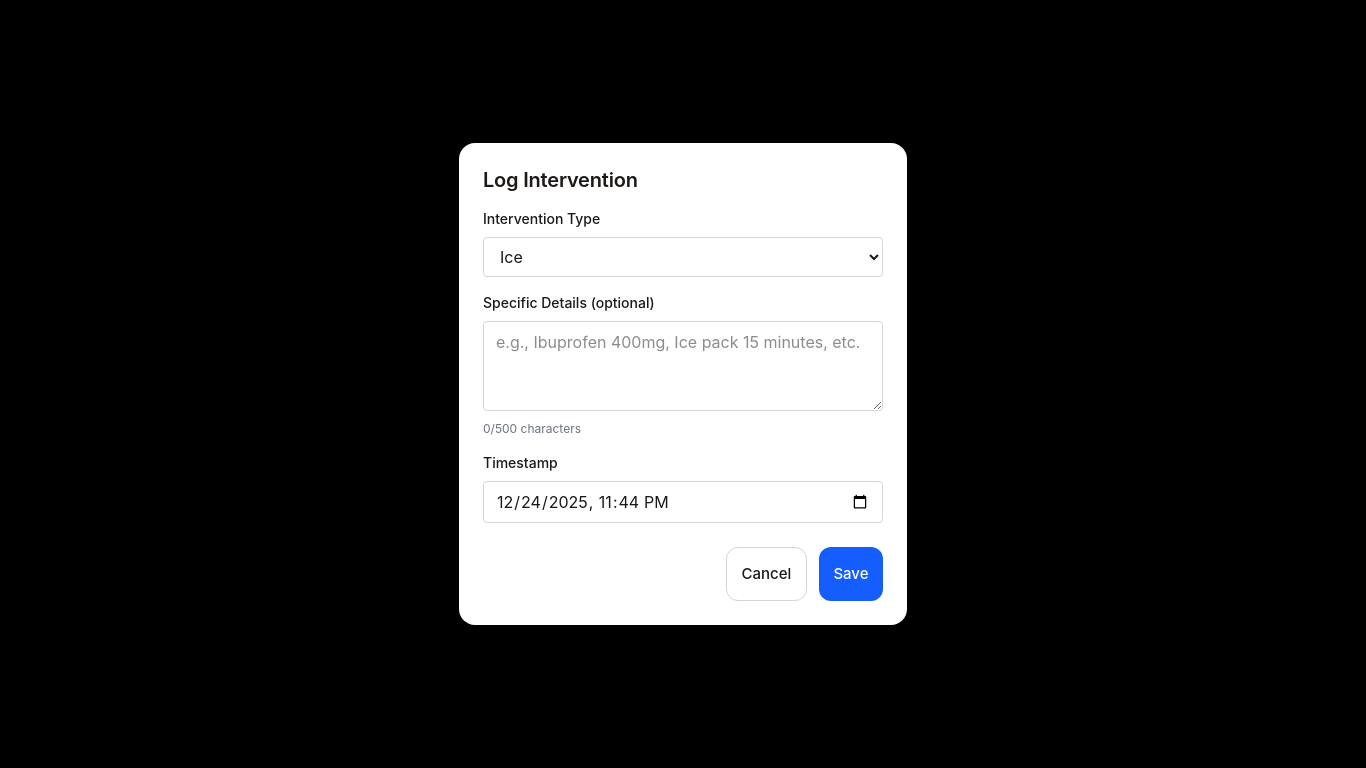
Scenario: InterventionLogModal › Form Submission (AC2.5.3, AC2.5.7) › handles save errors gracefully
What coordinates should you click on to do the following:
click the button "Save"
I would click on:
 (851, 574)
Its box is top-left (819, 547), bottom-right (883, 601).
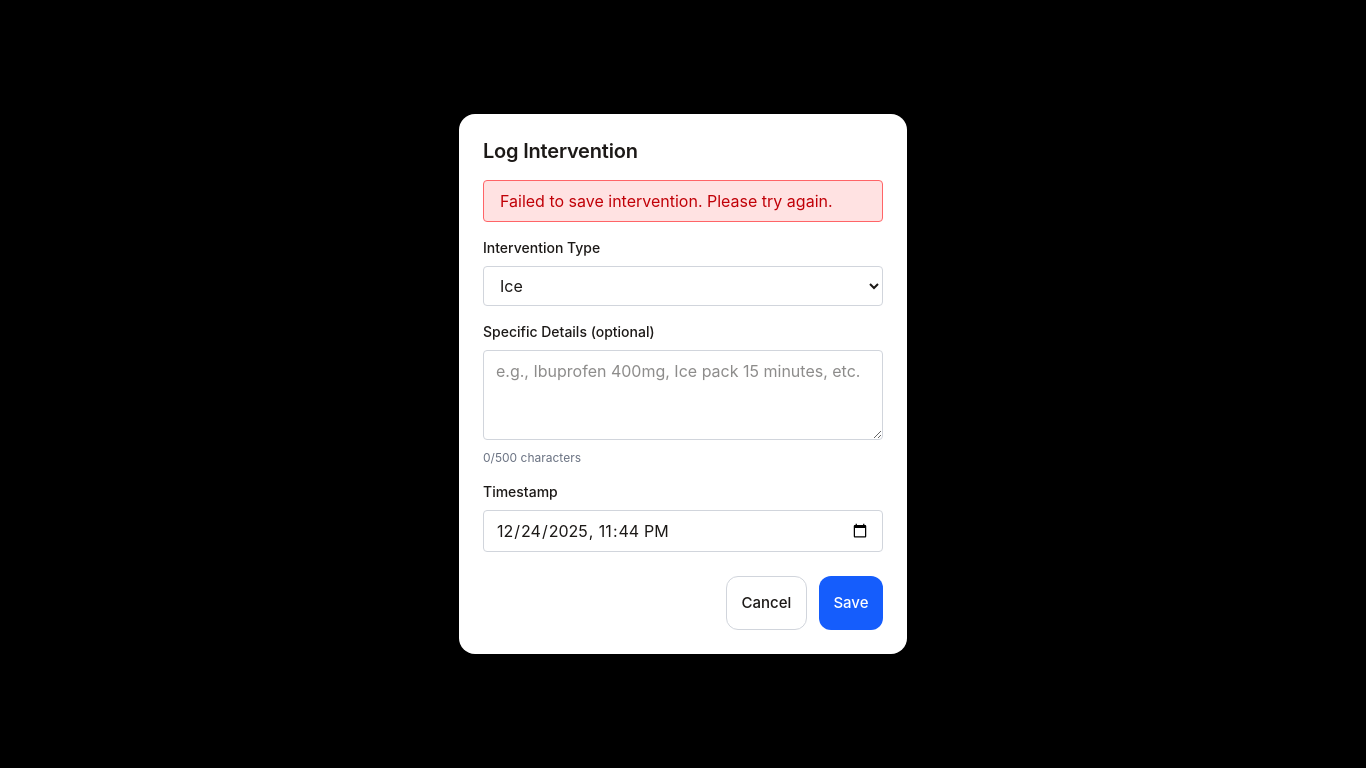
Now the text "Failed to save intervention. Please try again." is shown, box top-left (483, 180), bottom-right (883, 222)
